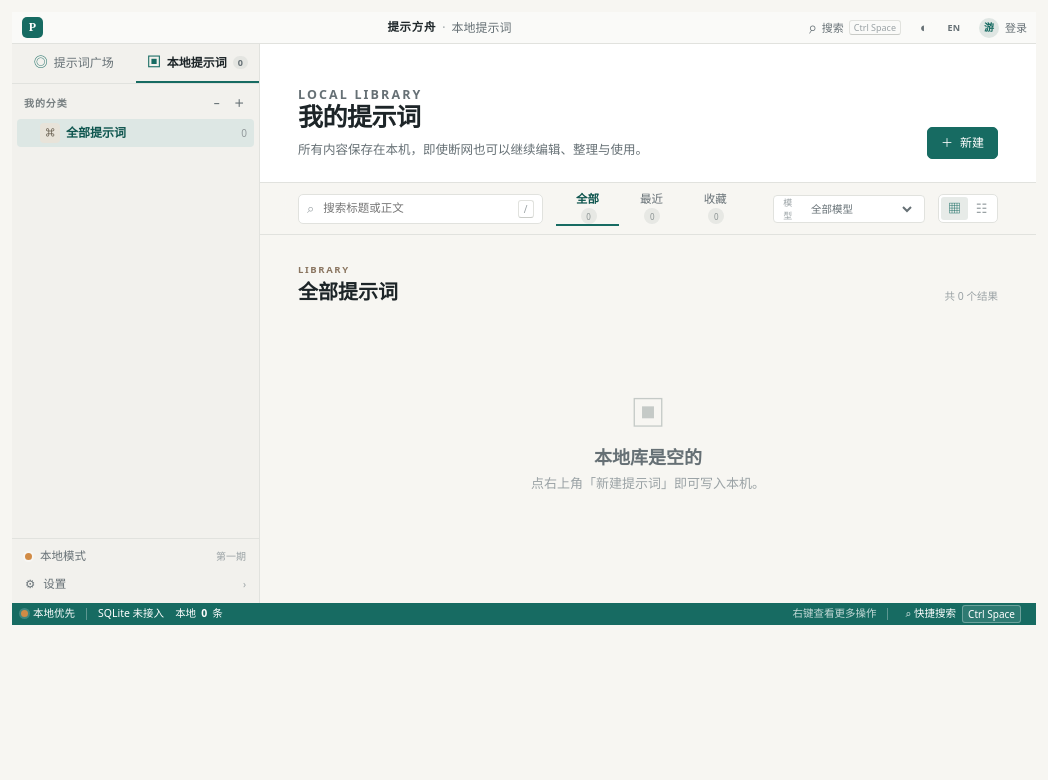
Test: WorkbenchShell › shows square items in the content grid not the category tree
Click the tab "◎ 提示词广场" at (74, 64), box [12,44,136,83]
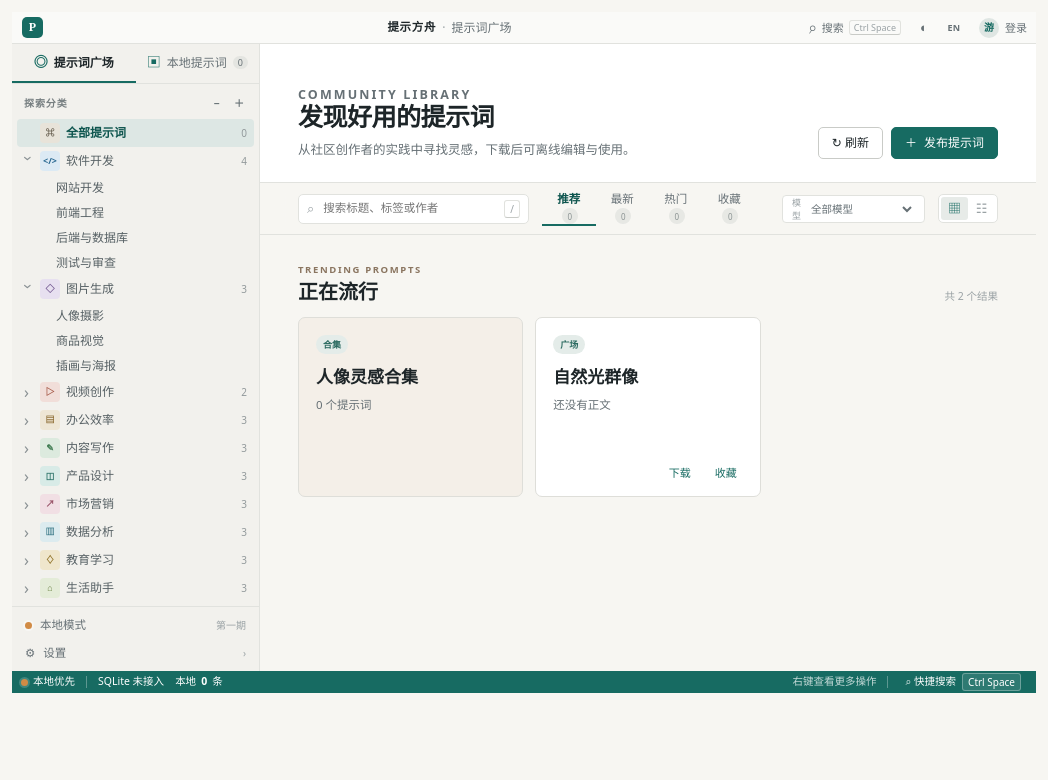
Expected: the element with class "category-tree" does not show "人像灵感合集"
Expected: the element with test id "library-view" shows "人像灵感合集", [316,368,418,387]
Expected: the element with test id "library-view" shows "自然光群像", [553,368,638,387]
